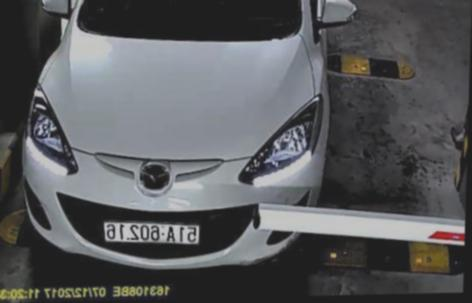License_Plate: (99, 217, 203, 247)
